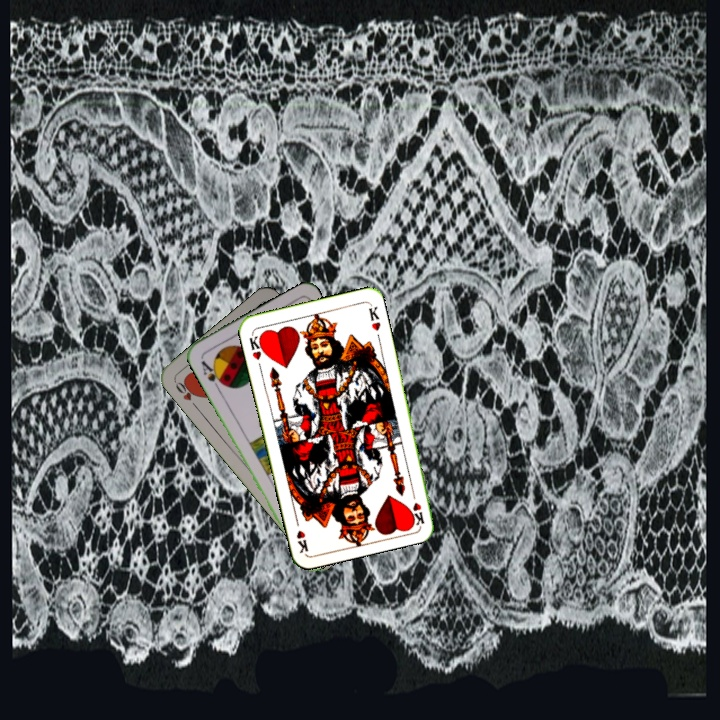HK: (408, 486, 427, 527), (245, 330, 267, 362)
HO: (171, 376, 201, 411)
SA: (197, 356, 227, 392)
